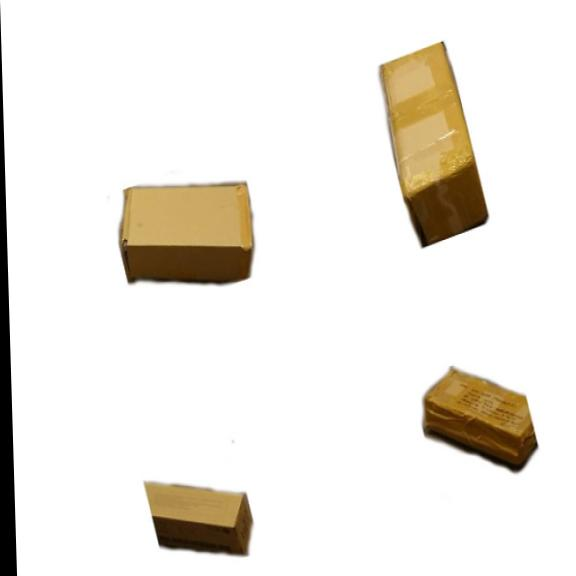Kertas: (378, 42, 490, 248), (422, 366, 538, 474), (424, 367, 536, 467), (145, 480, 256, 554)
